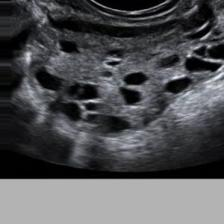pcos: (26, 9, 224, 146)
